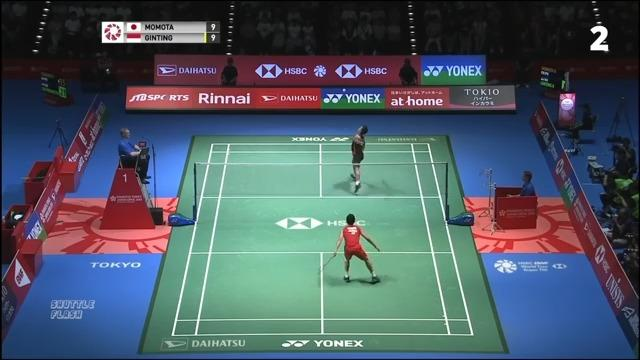Shuttlecock: (341, 87, 349, 95)
